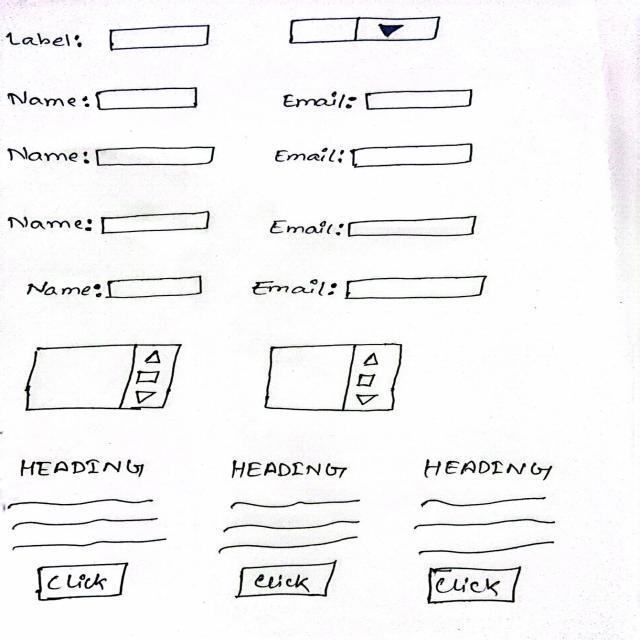textarea: (19, 335, 190, 418), (255, 339, 413, 417), (346, 269, 494, 305), (347, 141, 483, 170), (358, 87, 483, 115), (105, 271, 211, 302), (102, 25, 215, 54), (345, 217, 481, 240), (92, 146, 218, 168), (99, 87, 205, 113), (99, 215, 219, 235)
